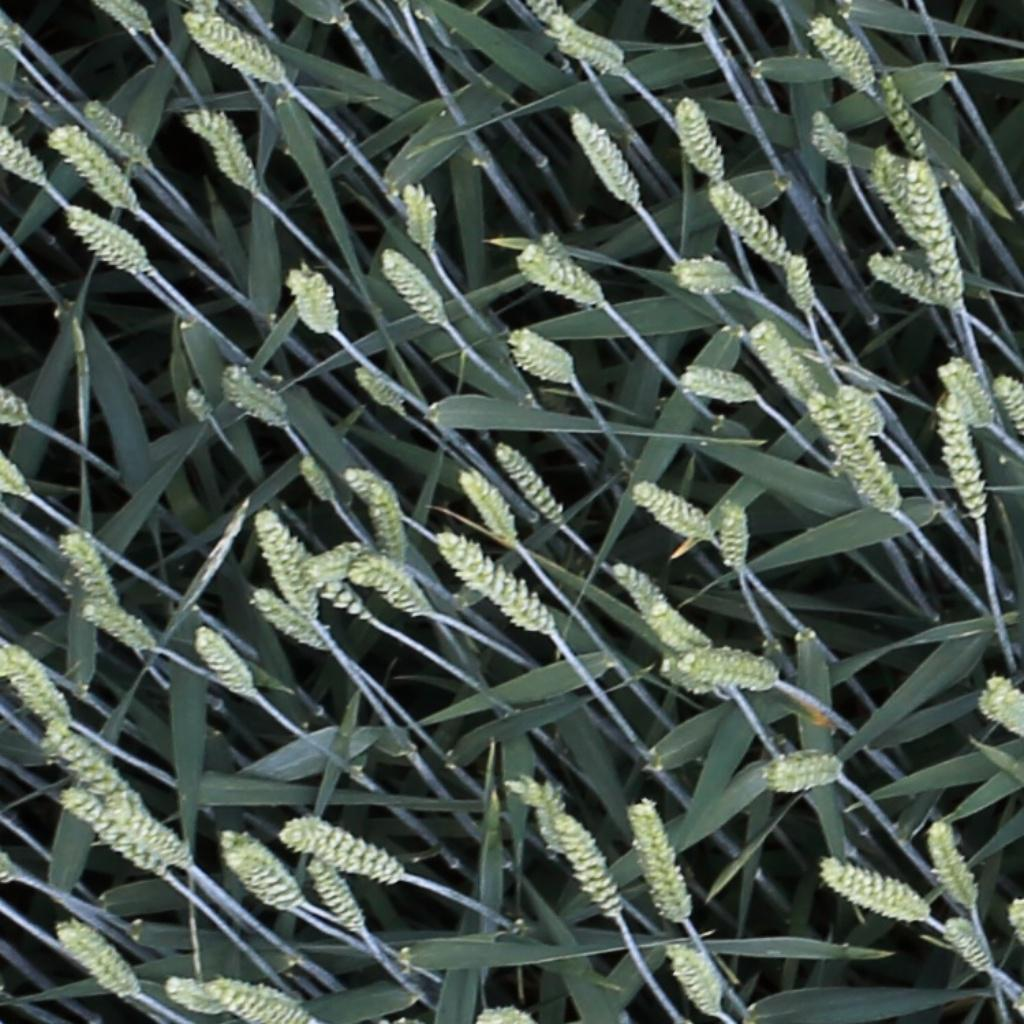0-0: (512, 770, 630, 917), (436, 532, 557, 638), (809, 385, 903, 517), (266, 806, 404, 883), (609, 557, 710, 653), (43, 718, 137, 819), (61, 788, 166, 873), (47, 122, 139, 212), (907, 150, 963, 297), (567, 102, 645, 207), (216, 823, 303, 910), (255, 510, 319, 623), (712, 180, 795, 266), (633, 800, 688, 927), (939, 394, 989, 525), (57, 922, 140, 1000), (823, 862, 931, 921), (180, 13, 275, 80), (750, 316, 821, 405), (493, 442, 566, 527), (802, 14, 879, 94), (871, 141, 929, 245), (192, 103, 259, 192), (379, 244, 450, 327), (879, 68, 935, 169), (114, 796, 198, 862), (927, 819, 983, 917), (305, 853, 368, 940), (0, 648, 70, 726), (355, 469, 407, 574), (60, 527, 120, 617), (456, 464, 520, 548), (504, 776, 572, 854), (192, 623, 259, 701), (286, 540, 389, 589), (518, 245, 604, 303), (677, 90, 730, 184), (81, 96, 151, 165), (65, 206, 147, 264), (252, 591, 331, 651), (666, 940, 726, 1018), (633, 483, 715, 540), (680, 642, 780, 687), (939, 353, 996, 431), (207, 978, 308, 1022), (503, 323, 575, 383), (871, 253, 954, 304), (759, 741, 843, 791), (652, 654, 738, 702), (0, 96, 46, 184), (544, 17, 622, 67), (349, 562, 428, 611), (222, 368, 289, 423), (81, 604, 157, 652), (677, 361, 765, 402), (289, 260, 335, 337), (674, 250, 739, 304), (942, 914, 996, 978), (978, 660, 1024, 735), (809, 102, 857, 169), (843, 375, 898, 431), (293, 449, 342, 510), (402, 174, 438, 255), (521, 0, 586, 44), (312, 578, 375, 622), (354, 364, 406, 413), (717, 493, 748, 575), (991, 370, 1024, 445), (163, 978, 226, 1017), (787, 247, 819, 318), (0, 375, 30, 438), (654, 0, 718, 29), (97, 1, 154, 33), (181, 380, 218, 427), (0, 456, 28, 494)
